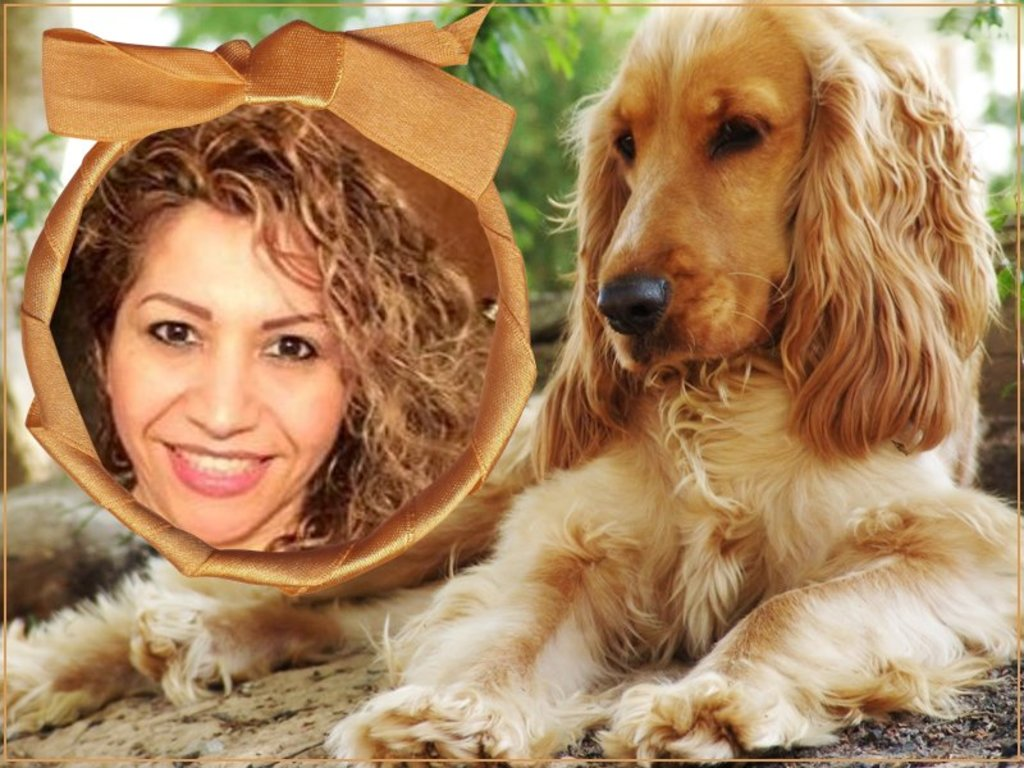Person: (49, 96, 490, 553)
